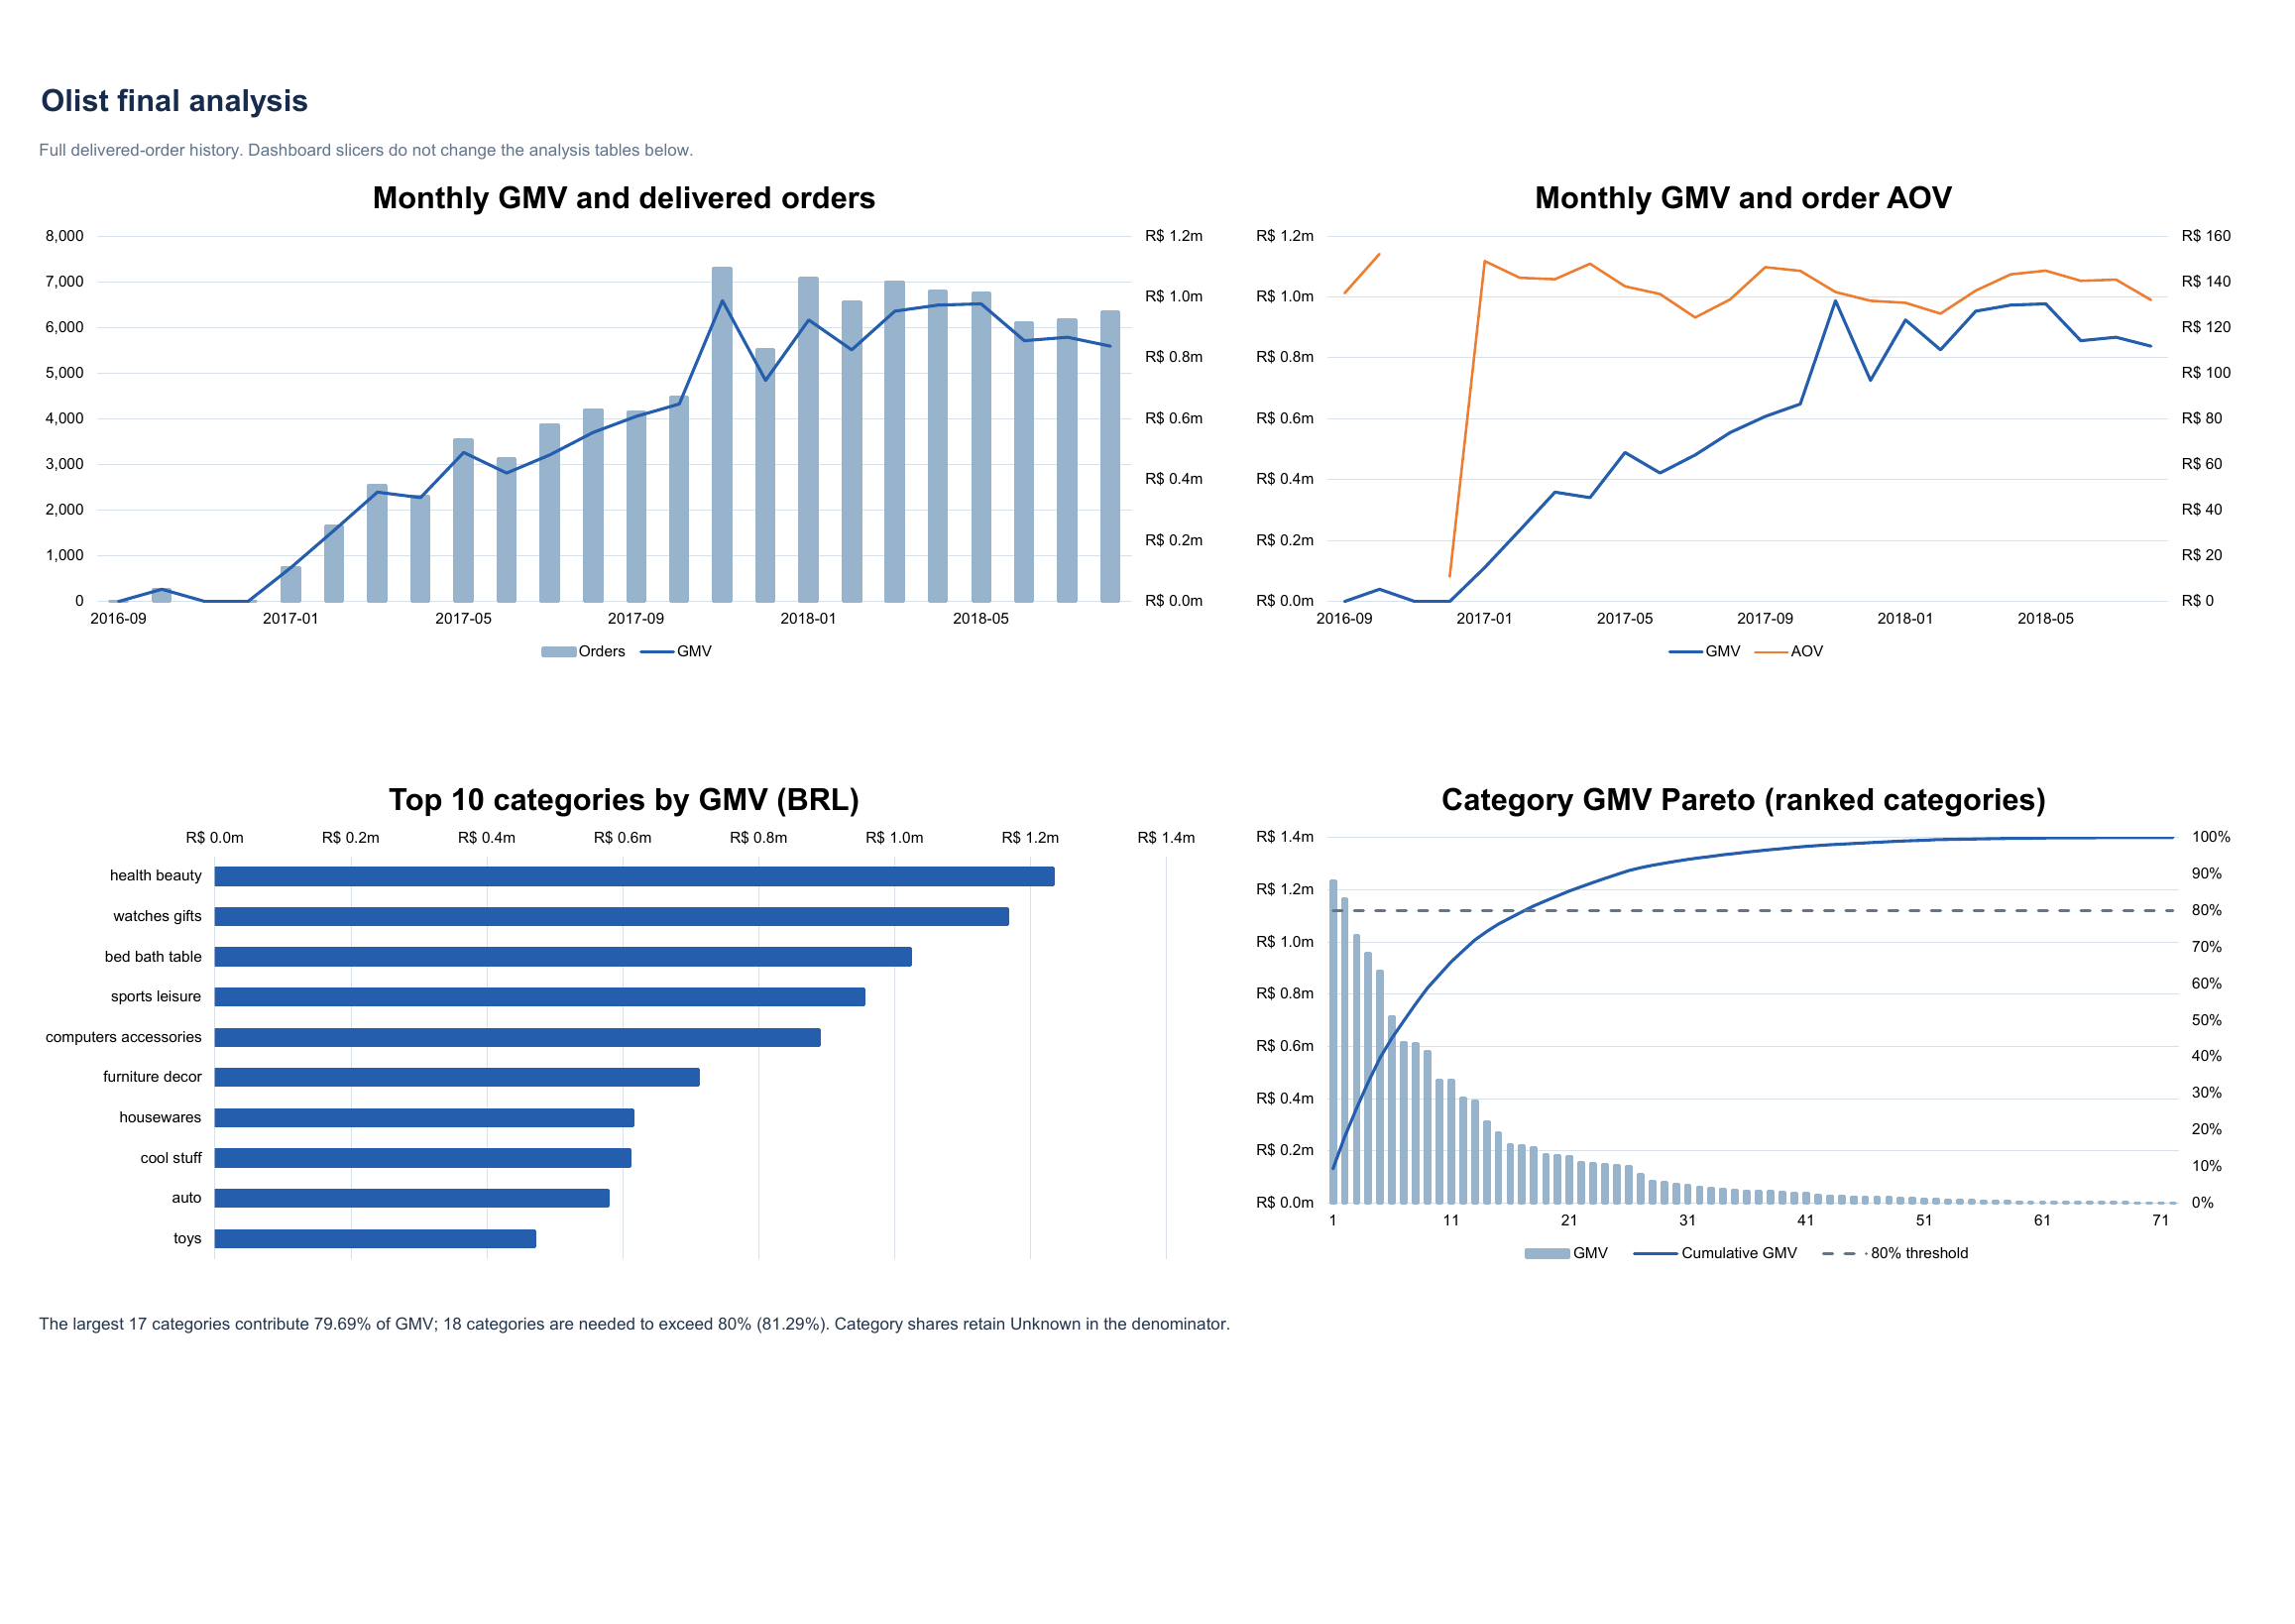

Layout of this report page (visuals, bound fields, positions):
{"tool":"powerbi","page":{"name":"Sales Performance","canvas":[1600,1000],"ordinal":0},"visuals":[{"type":"textbox","box":[28,18,1300,42],"z":0},{"type":"textbox","box":[28,50,1500,70],"z":1000},{"type":"textbox","box":[28,105,1500,43],"z":2000},{"type":"card","title":"Merchandise sales · full history","fields":{"Values":["q1_states.Total sales"]},"box":[28,153,374,105],"z":3000},{"type":"card","title":"Delivered orders · full history","fields":{"Values":["q1_states.Delivered orders"]},"box":[416,153,374,105],"z":4000},{"type":"card","title":"Sales from SP + RJ + MG","fields":{"Values":["q1_states.Top 3 state share"]},"box":[804,153,374,105],"z":5000},{"type":"card","title":"Leading category · health & beauty","fields":{"Values":["q1_categories.Leading category share"]},"box":[1192,153,374,105],"z":6000},{"type":"lineChart","title":"Monthly sales (BRL) · Jan 2017–Aug 2018","fields":{"Category":["q1_monthly.Month label"],"Y":["q1_monthly.Sales (BRL)"]},"box":[28,278,764,268],"z":7000},{"type":"lineChart","title":"Monthly delivered orders · Jan 2017–Aug 2018","fields":{"Category":["q1_monthly.Month label"],"Y":["q1_monthly.Orders"]},"box":[812,278,760,268],"z":8000},{"type":"clusteredBarChart","title":"Top 10 states · share of ALL sales","fields":{"Category":["StateSalesTop10.customer_state"],"Y":["StateSalesTop10.Share of all sales"]},"box":[28,566,460,358],"z":9000},{"type":"clusteredBarChart","title":"Top 10 categories · share of ALL sales","fields":{"Category":["CategoryTop10.Category label"],"Y":["CategoryTop10.Category share of all sales"]},"box":[508,566,552,358],"z":10000},{"type":"clusteredColumnChart","title":"Sales growth · month over month","fields":{"Category":["q1_monthly.Month label"],"Y":["q1_monthly.Growth","q1_monthly.Decline"]},"box":[1060,564.8,511.4,360.3],"z":11000},{"type":"textbox","box":[28,943,1544,40],"z":12000}]}

Visuals, with their boxes on the page's 1600x1000 design canvas (x1, y1, x2, y2). These are canvas units, not pixel positions in the 2295x1624 screenshot, which may show the page scaled, cropped or inside an application window:
textbox: bbox=(28, 18, 1328, 60)
textbox: bbox=(28, 50, 1528, 120)
textbox: bbox=(28, 105, 1528, 148)
"Merchandise sales · full history" card: bbox=(28, 153, 402, 258)
"Delivered orders · full history" card: bbox=(416, 153, 790, 258)
"Sales from SP + RJ + MG" card: bbox=(804, 153, 1178, 258)
"Leading category · health & beauty" card: bbox=(1192, 153, 1566, 258)
"Monthly sales (BRL) · Jan 2017–Aug 2018" lineChart: bbox=(28, 278, 792, 546)
"Monthly delivered orders · Jan 2017–Aug 2018" lineChart: bbox=(812, 278, 1572, 546)
"Top 10 states · share of ALL sales" clusteredBarChart: bbox=(28, 566, 488, 924)
"Top 10 categories · share of ALL sales" clusteredBarChart: bbox=(508, 566, 1060, 924)
"Sales growth · month over month" clusteredColumnChart: bbox=(1060, 565, 1571, 925)
textbox: bbox=(28, 943, 1572, 983)
